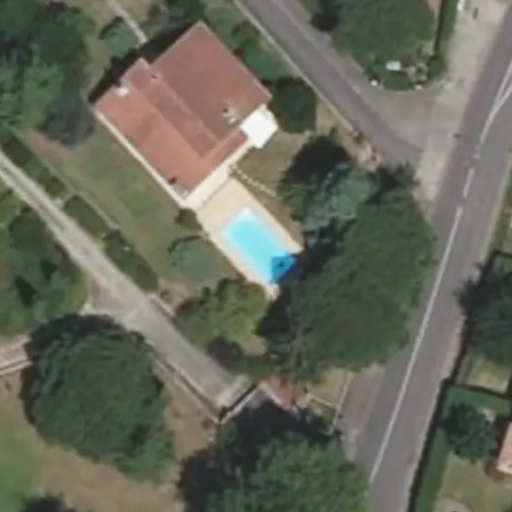pool: (223, 227, 287, 256)
